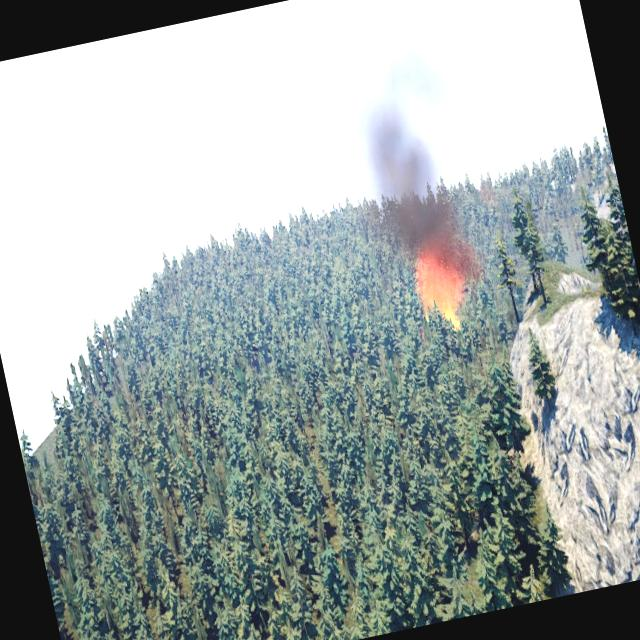fire: (412, 258, 469, 340)
smoke: (329, 50, 487, 310)
